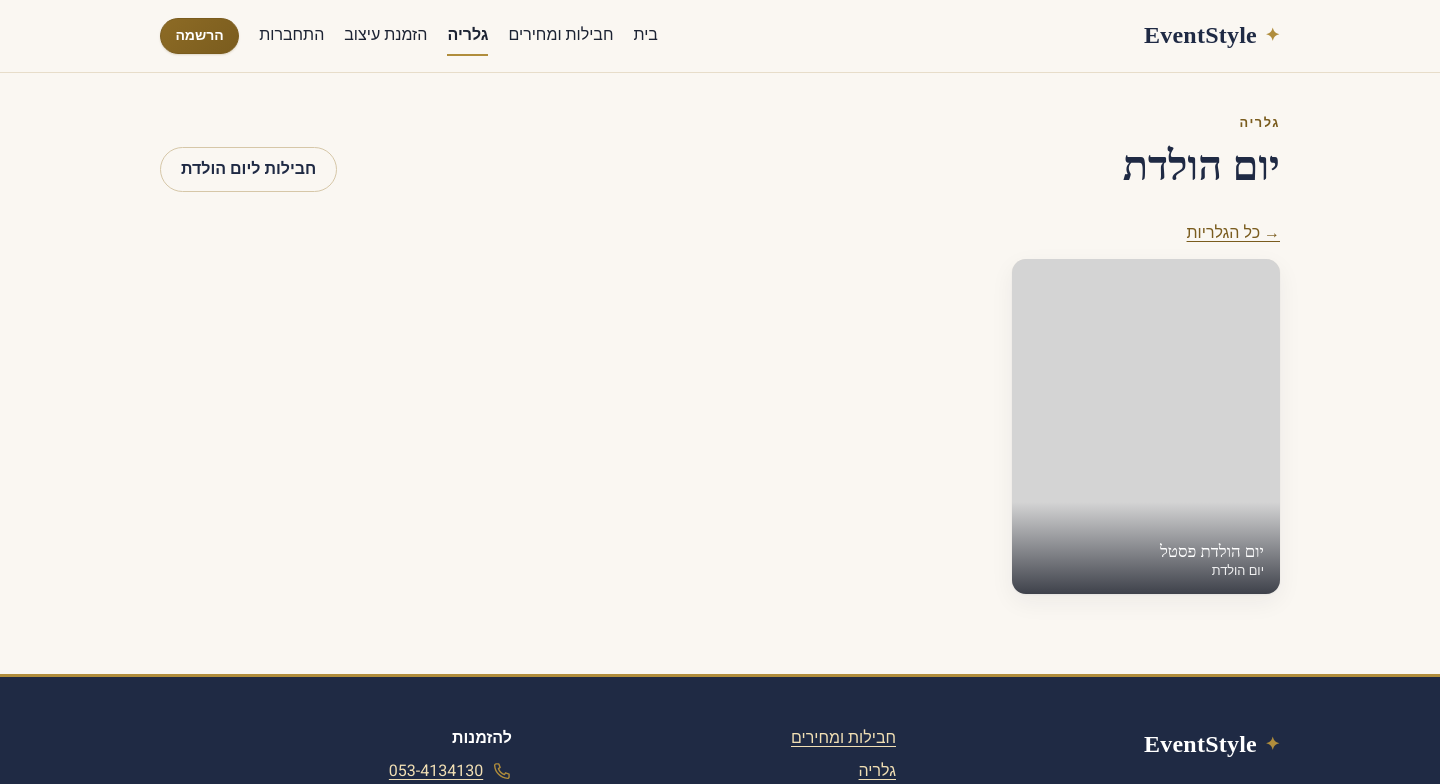
Test: Public gallery › a category page shows only published items, with an enlarged view
Click the button with aria-label "הגדלת התמונה: יום הולדת פסטל": (1146, 426) [1012, 259, 1280, 594]
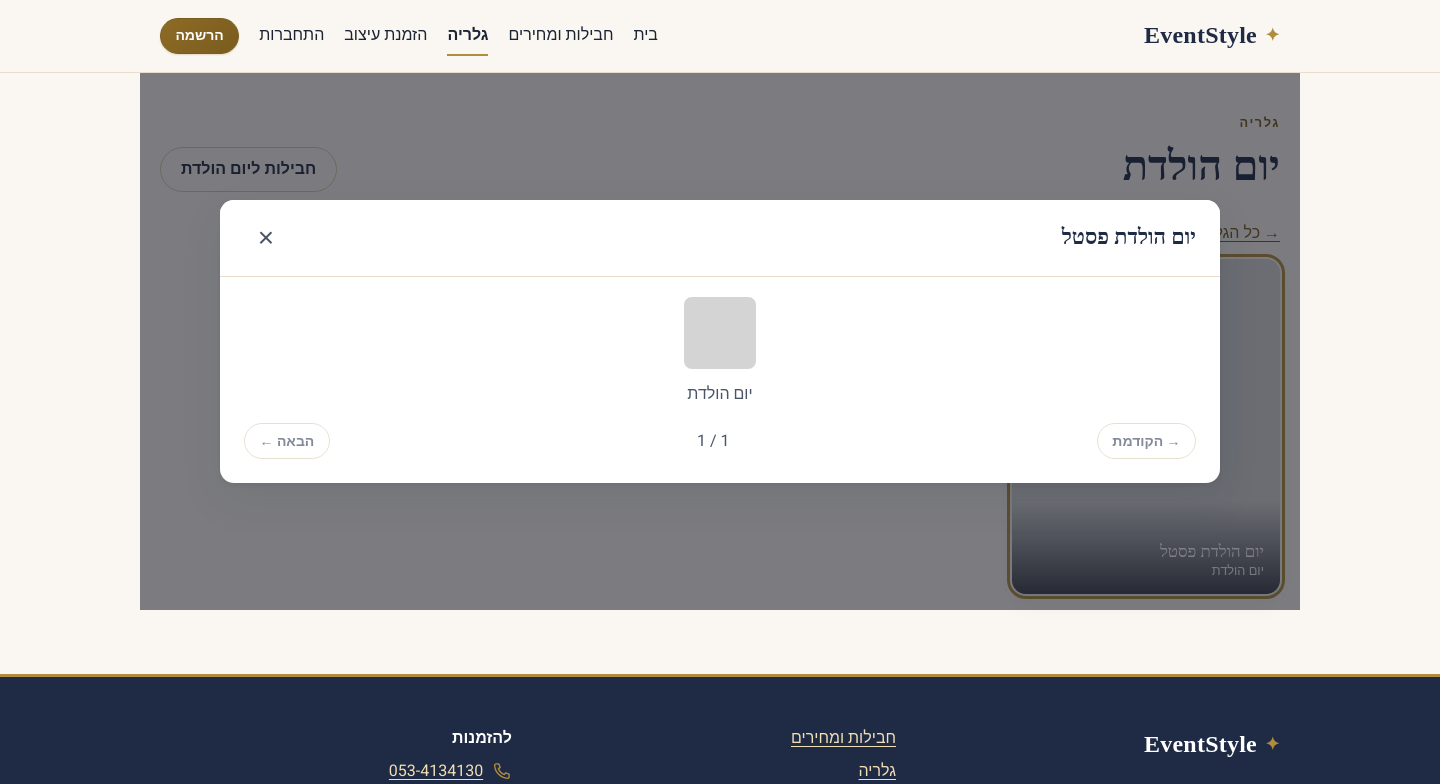
Press Escape
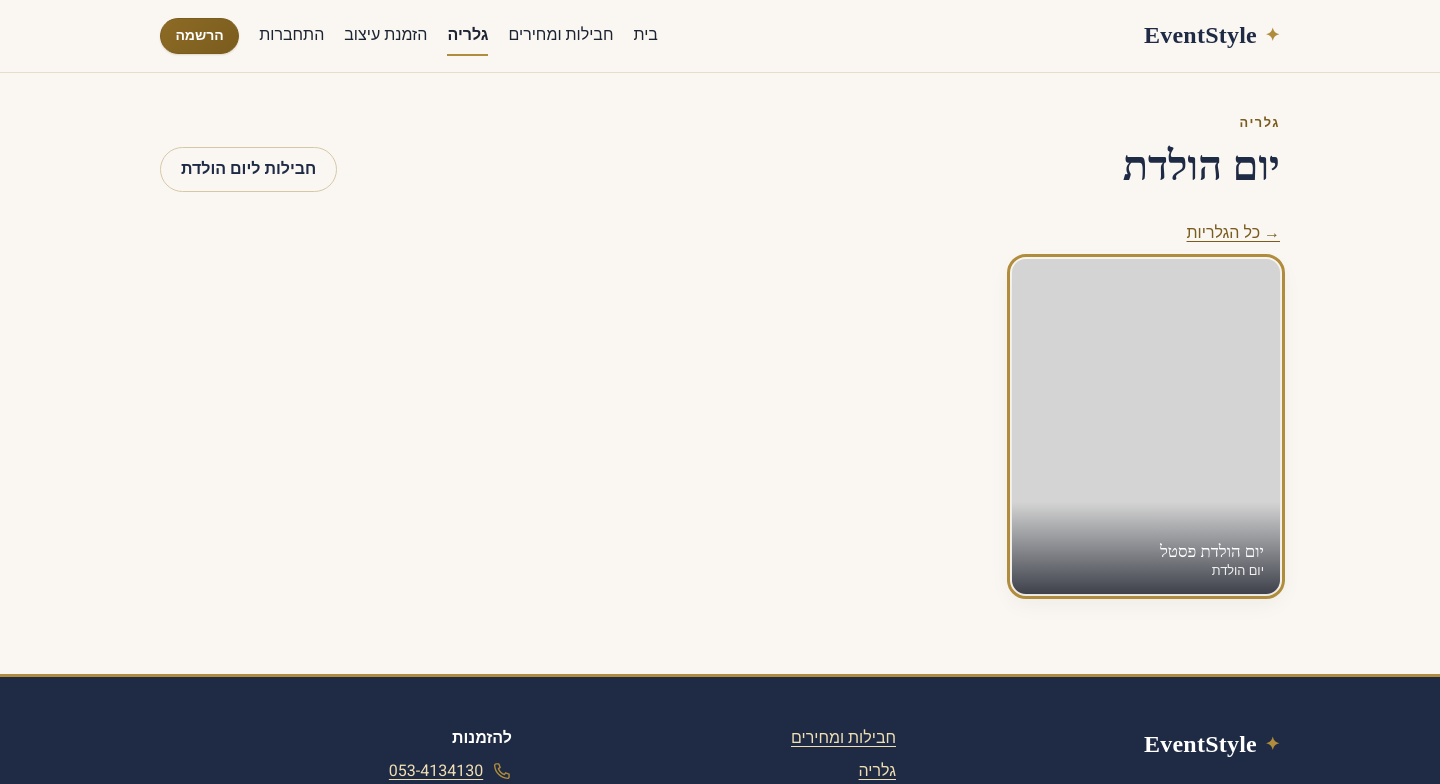
Expected: the dialog is gone
